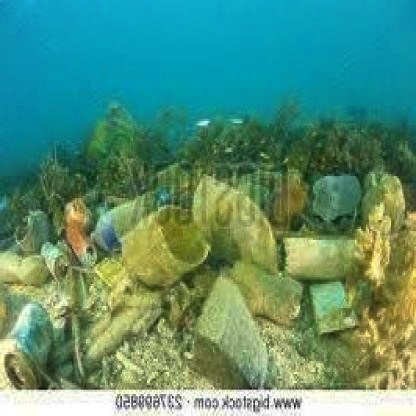can: (2, 295, 60, 390), (63, 205, 97, 264), (38, 236, 74, 286)
pbottle: (122, 207, 208, 286), (225, 258, 302, 326), (281, 229, 363, 284), (89, 190, 158, 245), (308, 170, 360, 231)
